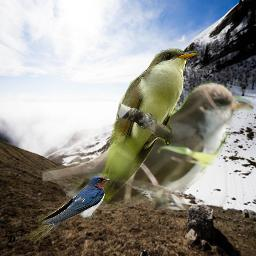Cuckoo: (42, 81, 254, 210), (95, 48, 201, 203)
Swallow: (30, 176, 110, 243)
